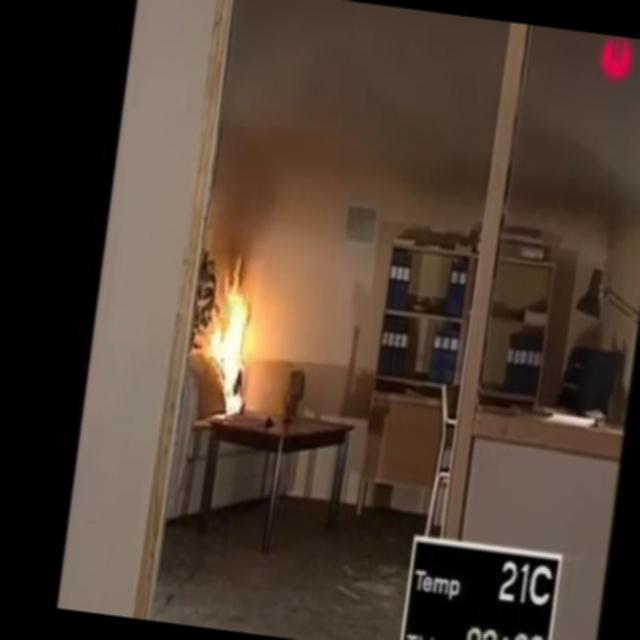fire: (192, 251, 276, 418)
